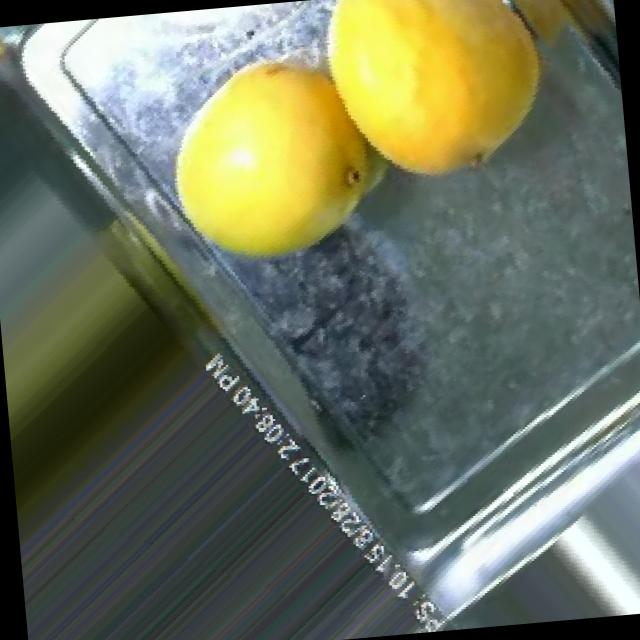fruit: (112, 0, 439, 320), (0, 139, 256, 521), (272, 0, 592, 244)
